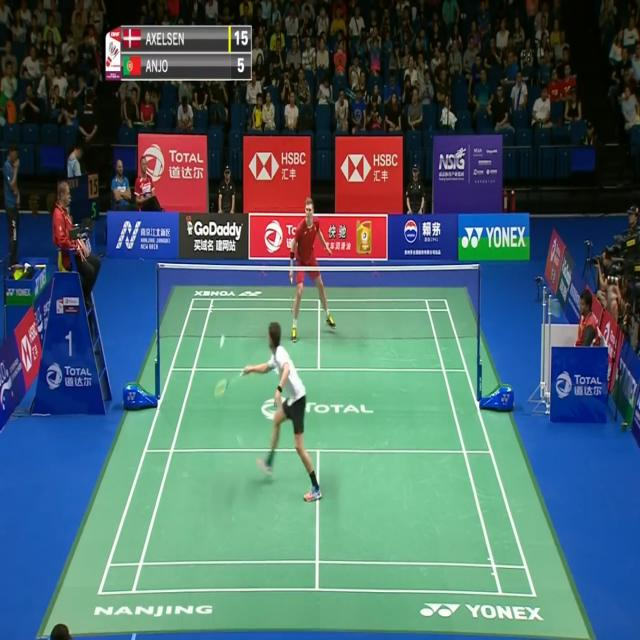Player1: (206, 312, 324, 508)
Player2: (278, 195, 342, 341)
